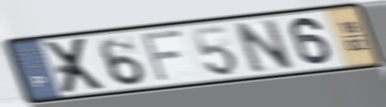5: (189, 24, 240, 78)
6: (97, 35, 147, 87), (289, 16, 335, 67)
F: (138, 27, 185, 84)
N: (230, 16, 297, 75)
X: (43, 36, 110, 97)
